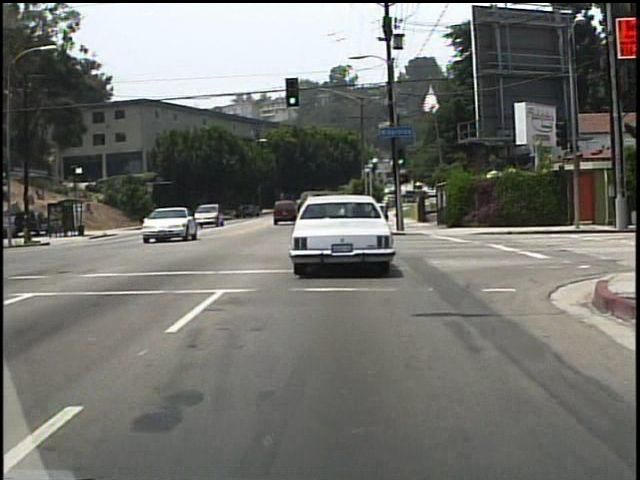person: (156, 209, 164, 228)
